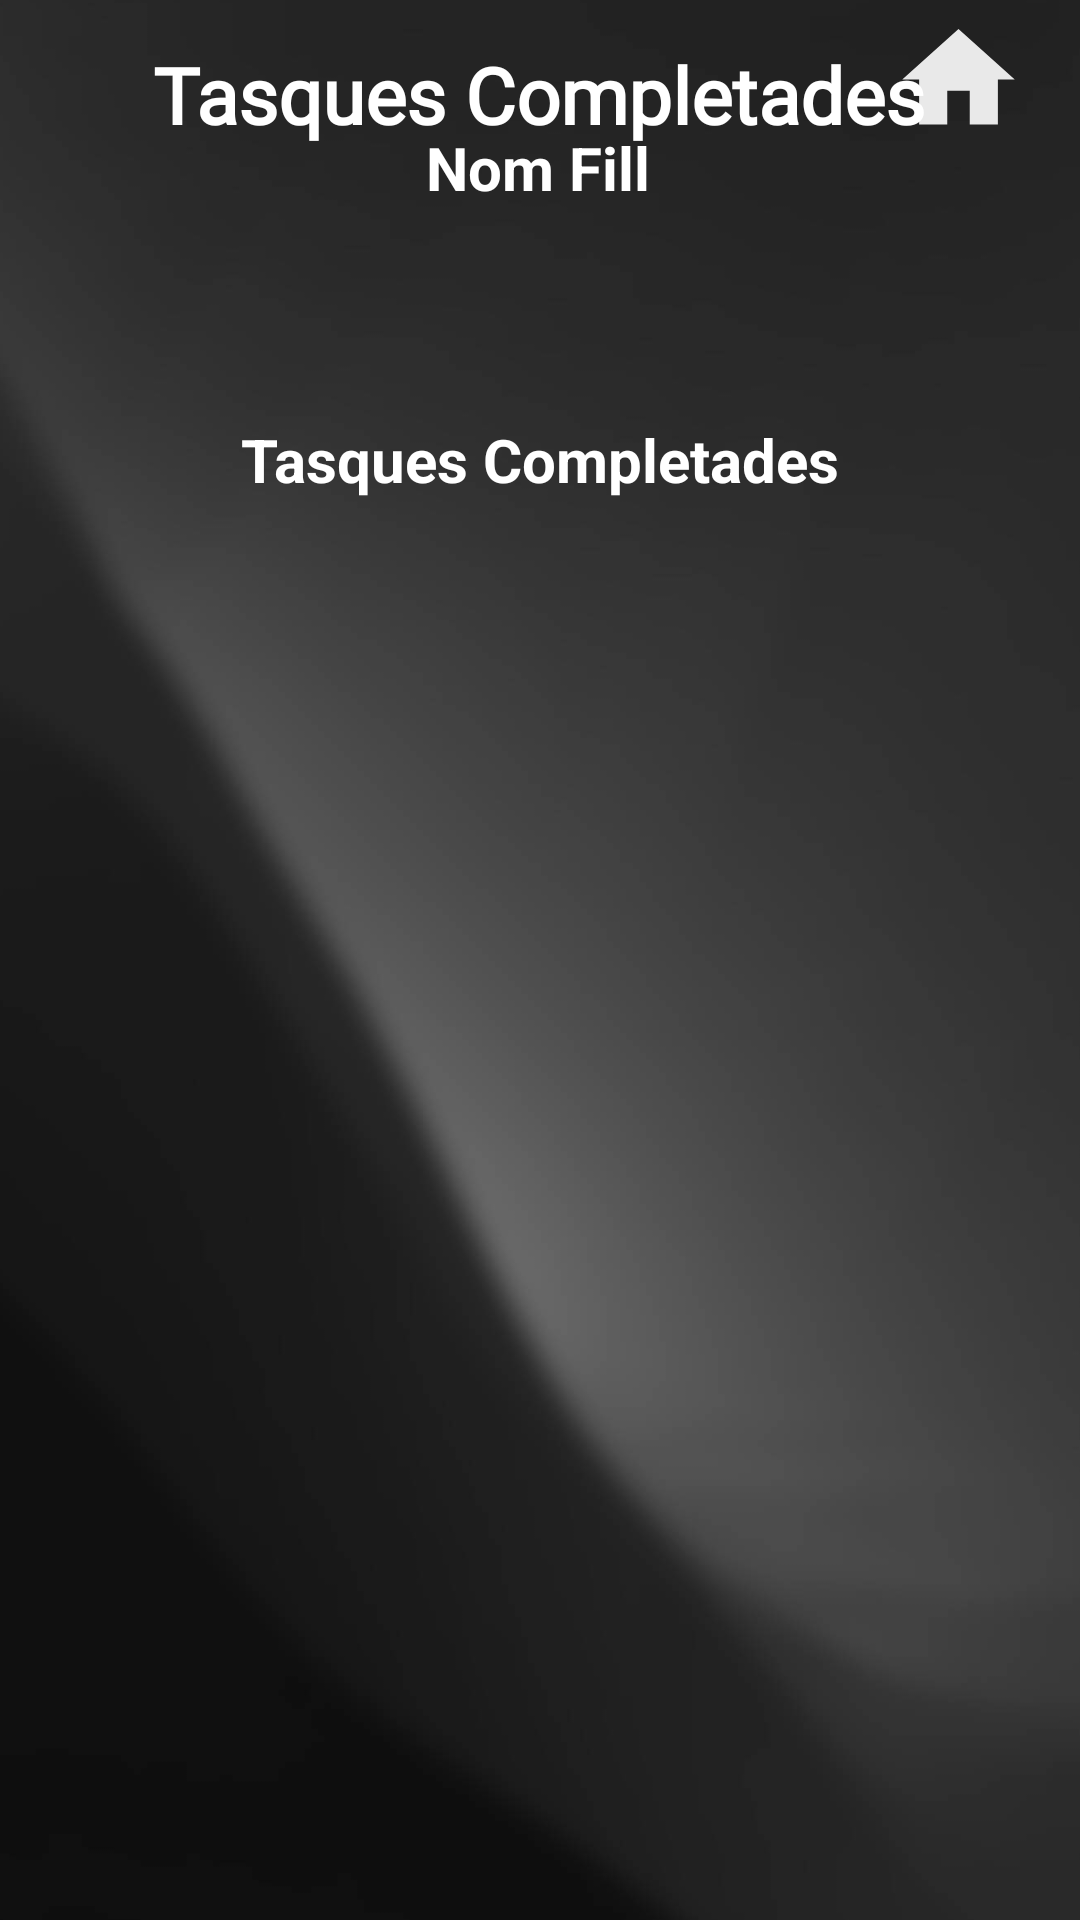

Where to tap for icons on this 1080×1920 app screen, as [x,y]:
home: [951,77]
